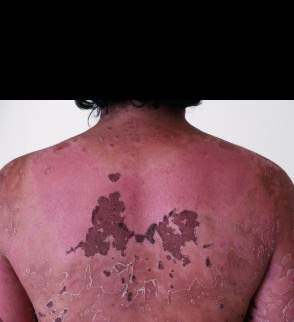SJS-TEN: (0, 102, 294, 322)
